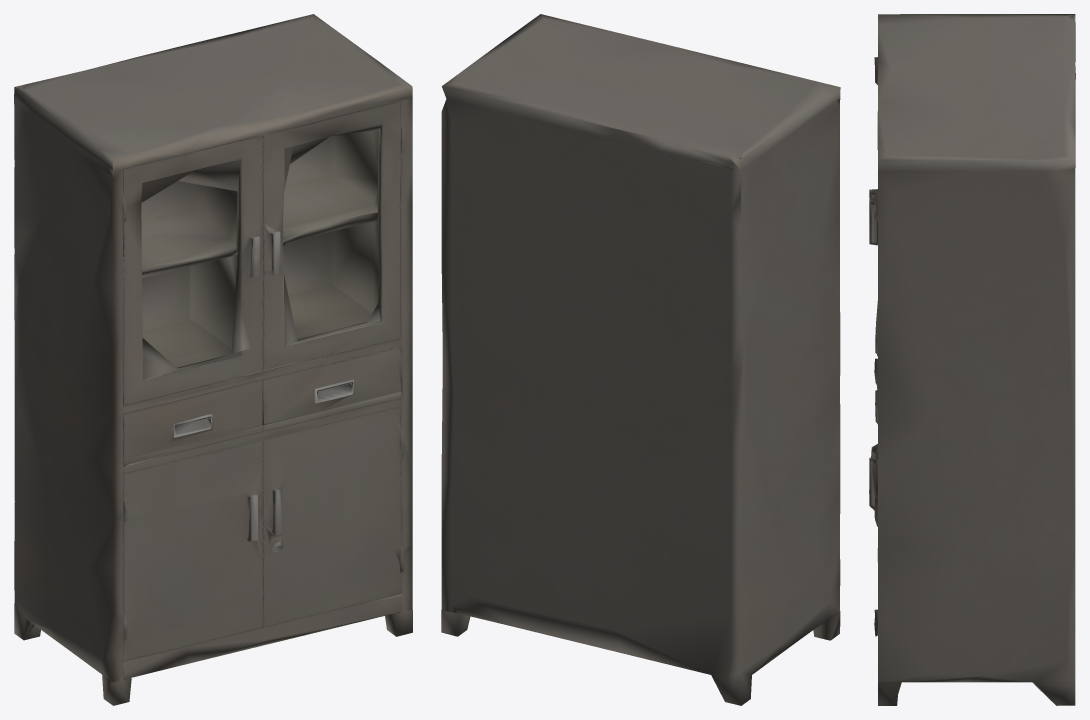
Rendered from ENV_ALL_111_ref_v001.png.glb.
The picture shows the model from 3 angles, left to right: view 1: azimuth 30°, elevation 25°; view 2: azimuth 150°, elevation 25°; view 3: azimuth 270°, elevation 25°; orthographic projection.
Visible parts, largest first — view 1: tripo_node_97c53684-0851-4ca0-b7ba-0ebe2e8e82b9; view 2: tripo_node_97c53684-0851-4ca0-b7ba-0ebe2e8e82b9; view 3: tripo_node_97c53684-0851-4ca0-b7ba-0ebe2e8e82b9.
Part boxes in pixels (<box>): tripo_node_97c53684-0851-4ca0-b7ba-0ebe2e8e82b9: <box>14,14,412,705</box>; tripo_node_97c53684-0851-4ca0-b7ba-0ebe2e8e82b9: <box>441,14,840,705</box>; tripo_node_97c53684-0851-4ca0-b7ba-0ebe2e8e82b9: <box>869,14,1075,705</box>.
Bounding box in the file's own units: 0.563 × 0.9801 × 0.3364.
1 material, 1 textured.
